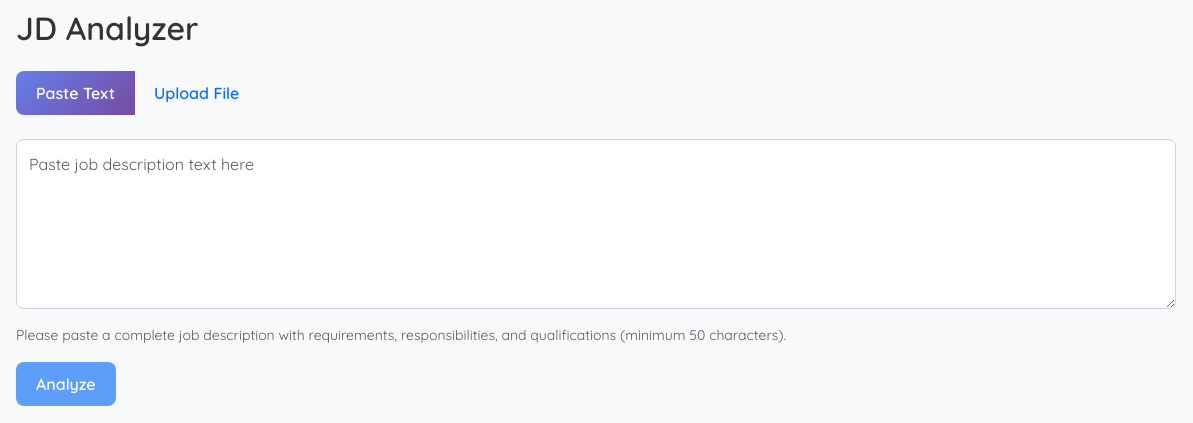
Test: Home › switches between text and file input methods
Expected: the text box with placeholder "Paste job description text here" is shown, [16, 139, 1176, 309]
Expected: the text "accepted file types" is not shown
// Click on upload file
Click the button "Upload File".
click(197, 93)  # box [134, 71, 259, 115]
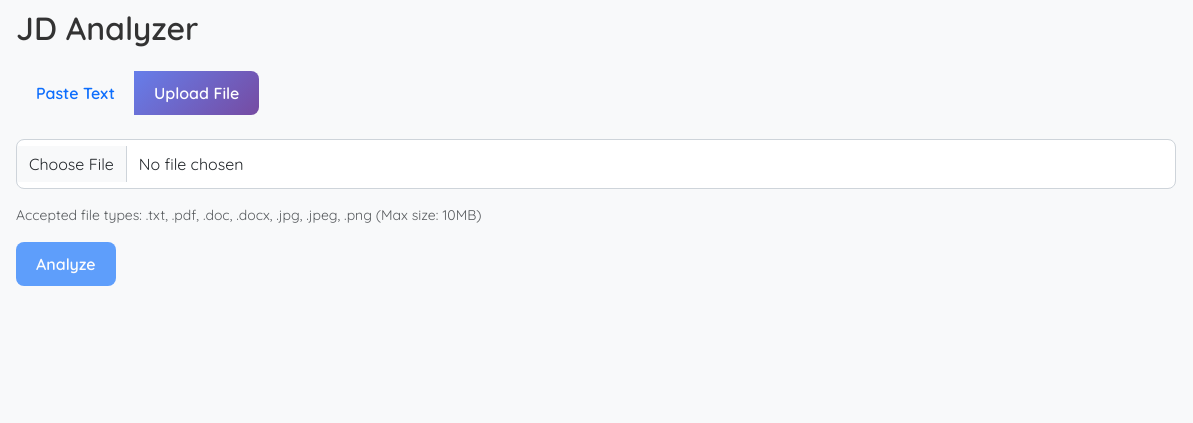
Expected: the field with placeholder "paste job description" is not shown
Expected: the text "Accepted file types" is shown, [16, 206, 482, 224]
// Switch back to text
Click the button "Paste Text".
click(76, 93)  # box [16, 71, 135, 115]
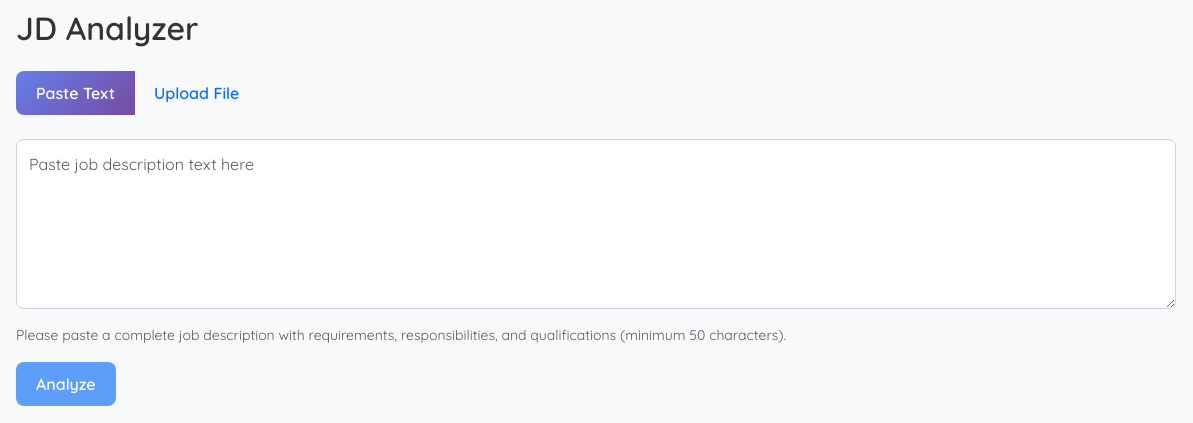
Expected: the text box with placeholder "Paste job description text here" is shown, [16, 139, 1176, 309]
Expected: the text "Accepted file types" is gone
